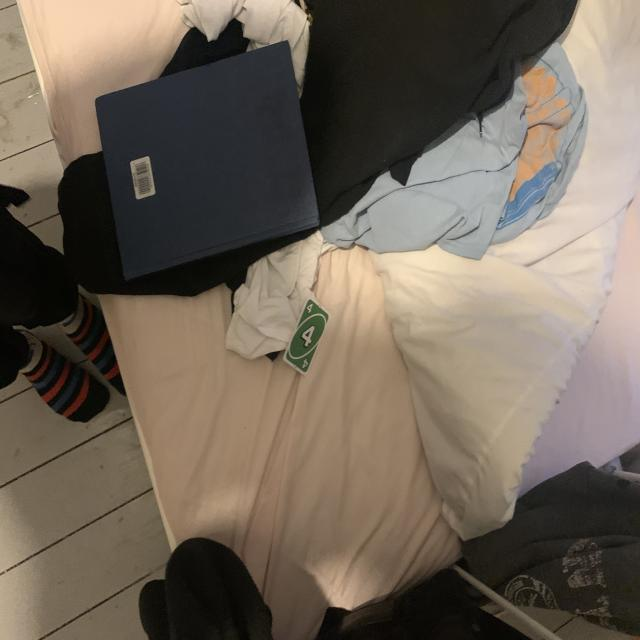lgreen-4: (303, 300, 314, 316)
